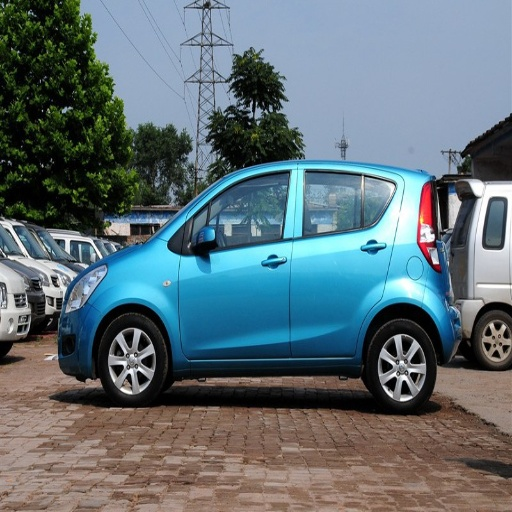back_left_door: (291, 166, 397, 356)
front_left_door: (179, 167, 297, 359)
